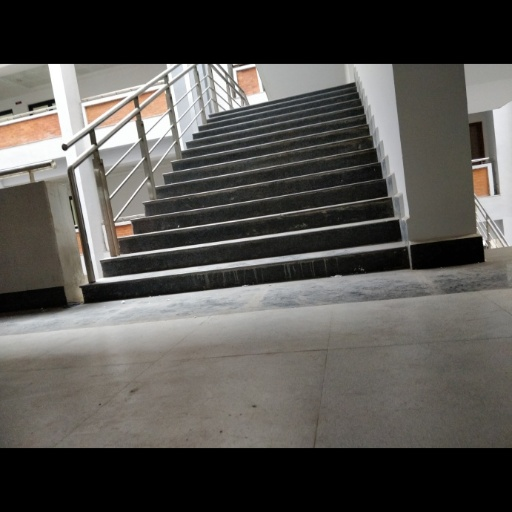Stairs: (83, 84, 409, 302)
